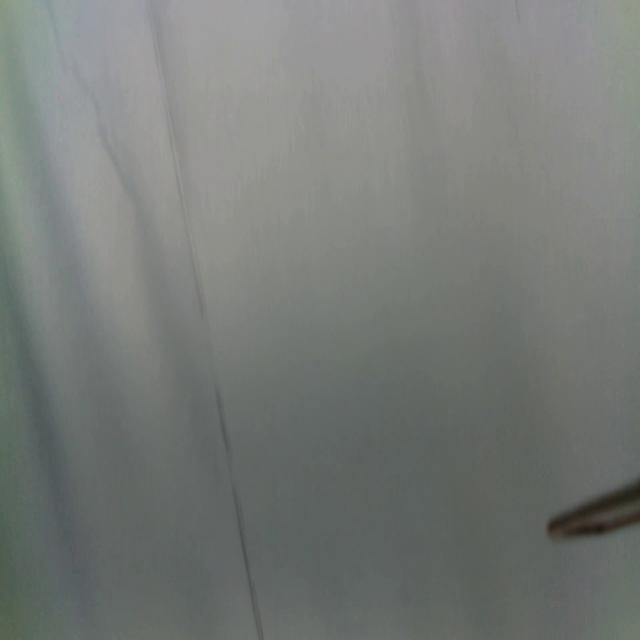crease: (150, 4, 262, 640)
